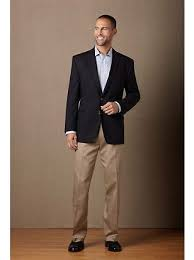F_M_suit jacket: (60, 42, 146, 147)
